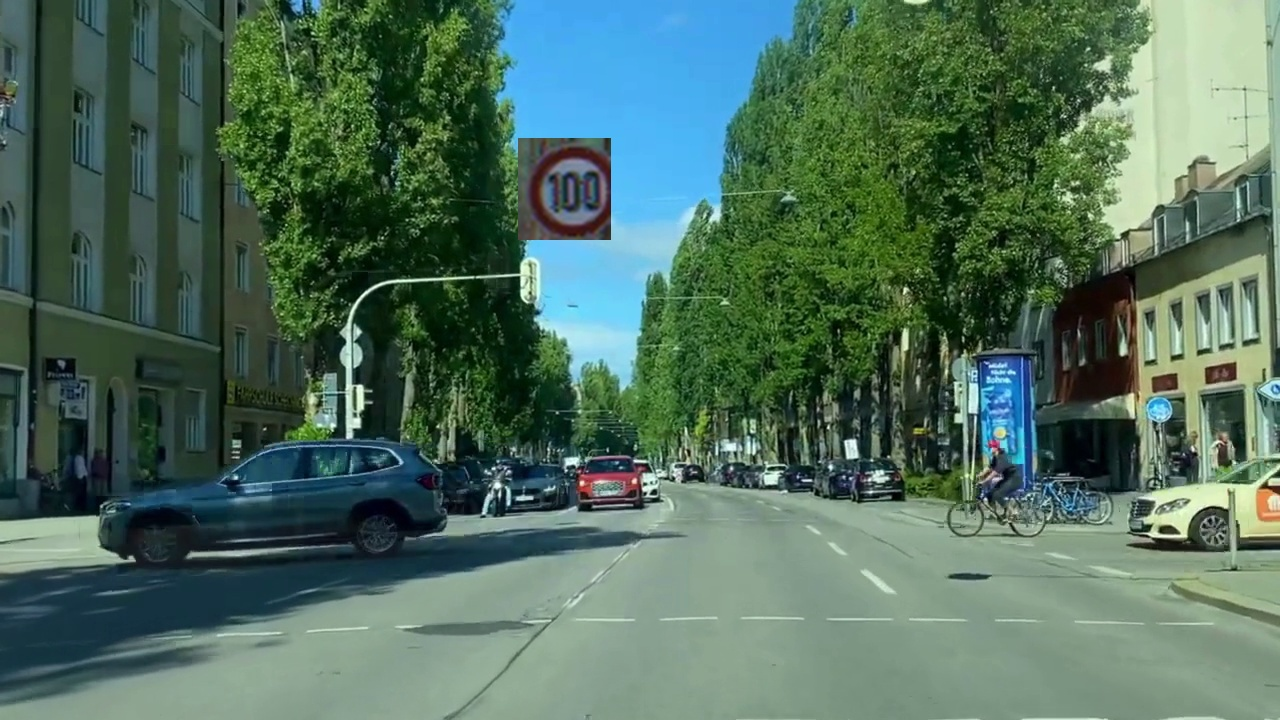Speed 100: (518, 138, 611, 240)
